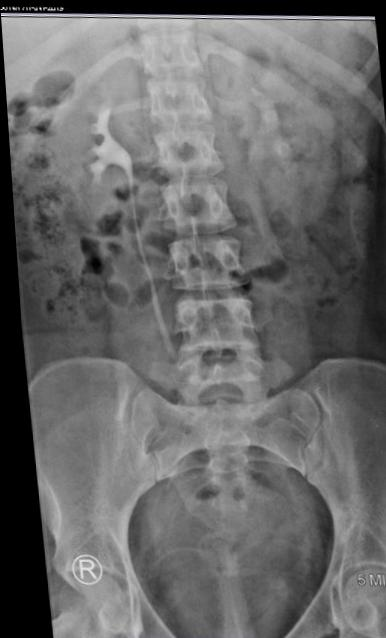left kidney: (233, 36, 357, 236)
right kidney: (30, 67, 148, 229)
vertebrae: (147, 114, 227, 177)
